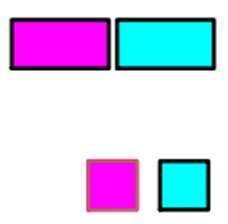cyan_zone: (112, 16, 218, 72), (157, 156, 211, 216)
pink_zone: (8, 17, 113, 73), (85, 158, 141, 214)
